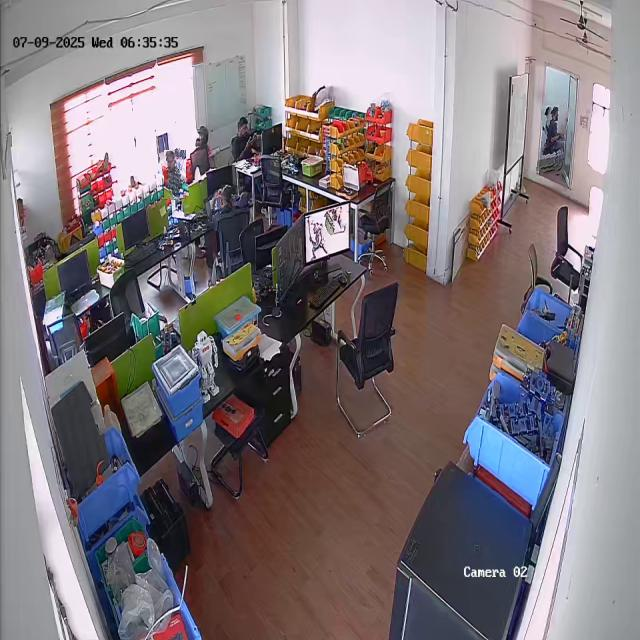person: (539, 104, 568, 175), (230, 115, 264, 168), (209, 182, 237, 233), (162, 149, 188, 200)
